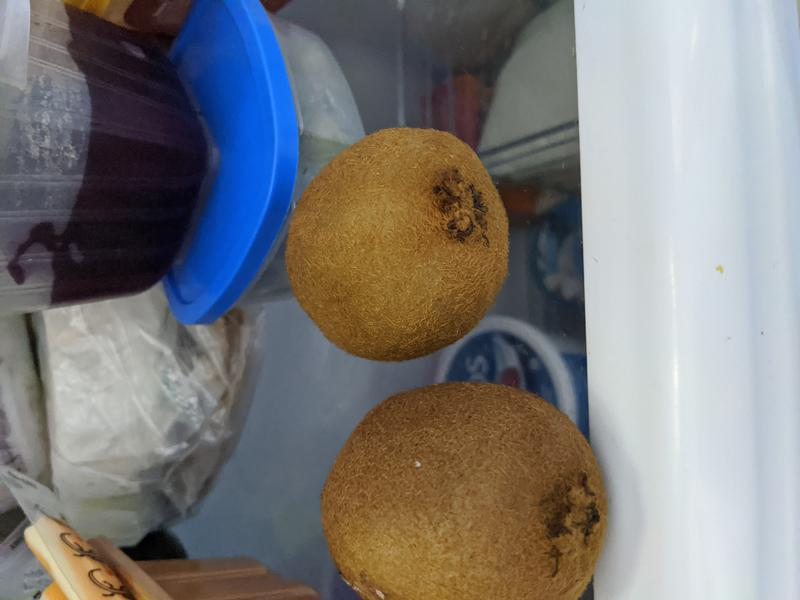kiwi: (319, 379, 610, 600), (284, 125, 510, 363)
